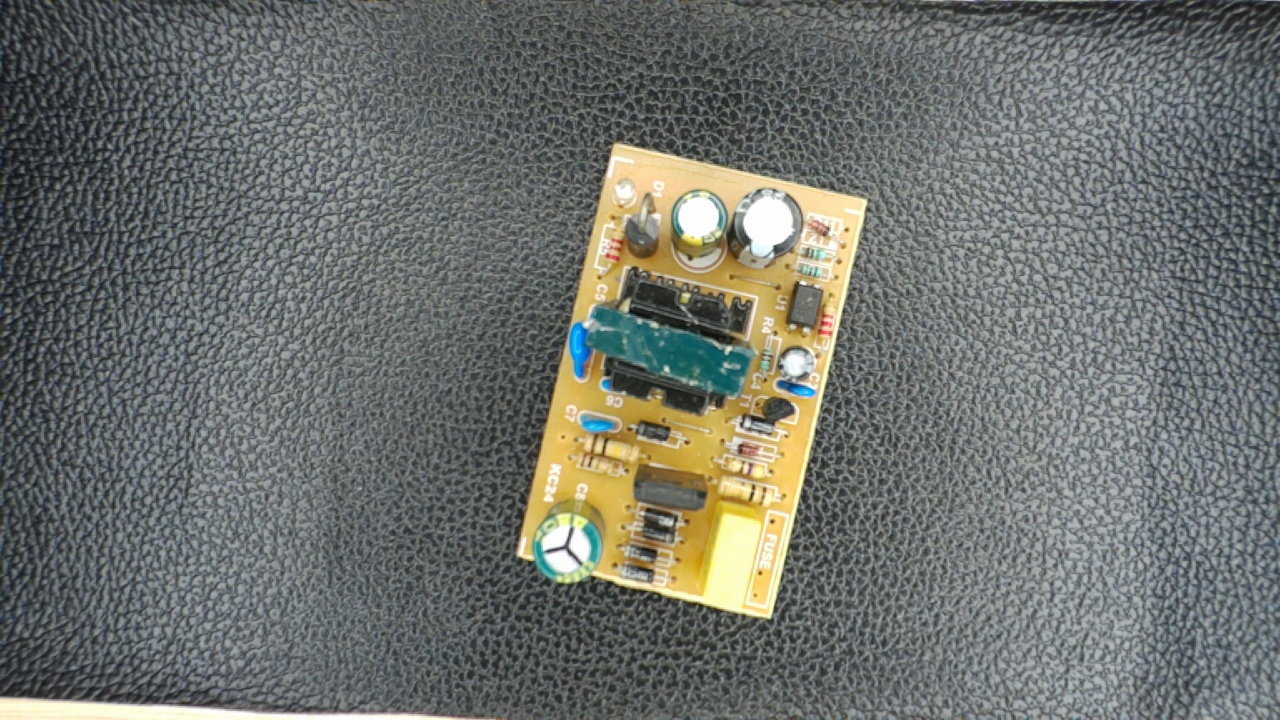hv_capacitor: (533, 497, 606, 584)
mov: (567, 312, 596, 384)
optocoupler: (788, 276, 825, 338)
